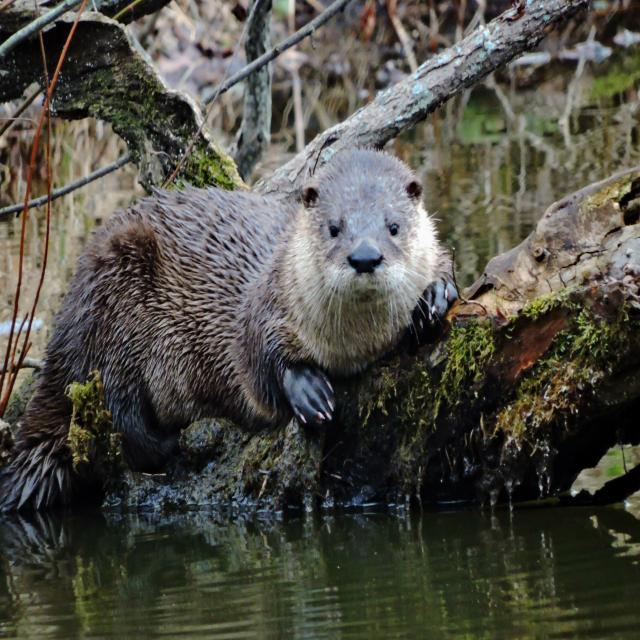otter: (20, 152, 447, 442)
